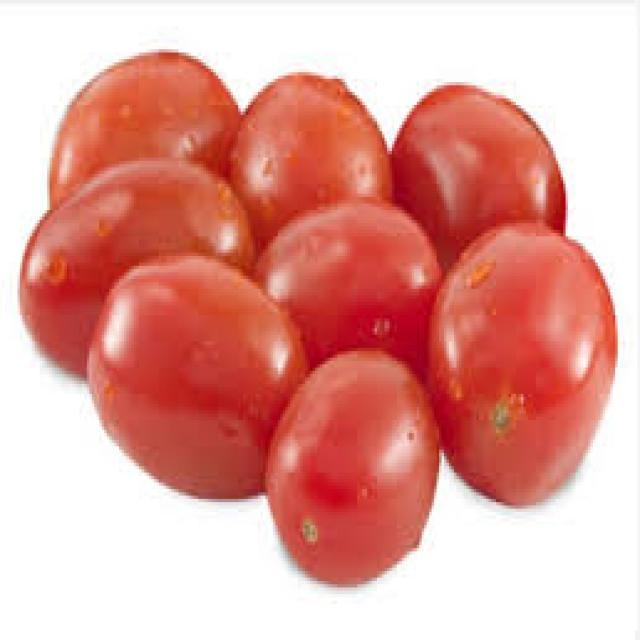Fresh_tomato: (95, 260, 292, 486), (432, 246, 620, 469), (286, 340, 458, 576), (45, 31, 236, 191), (244, 62, 394, 236), (402, 74, 569, 222)
